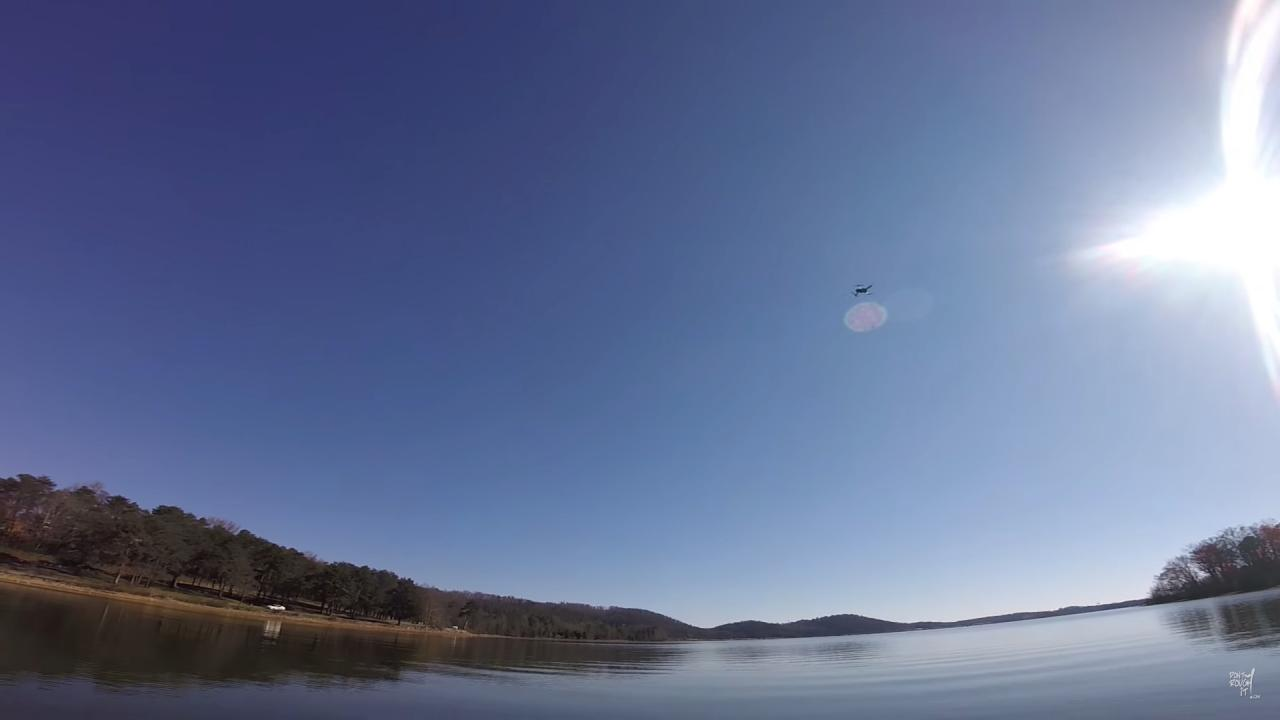Drone: (842, 278, 881, 304)
